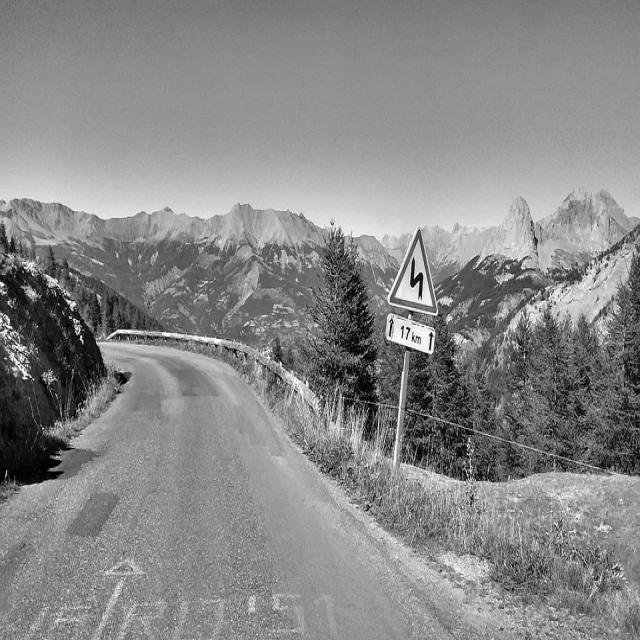danger: (387, 225, 442, 317)
